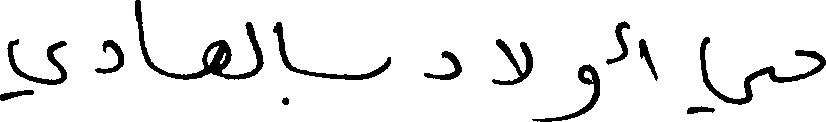X: (702, 32, 772, 117), (0, 34, 65, 105), (610, 16, 655, 84), (552, 59, 599, 121), (494, 34, 522, 89), (425, 46, 460, 84), (204, 35, 229, 84), (797, 45, 825, 85), (96, 35, 120, 78), (136, 0, 150, 72), (279, 17, 289, 109), (247, 17, 259, 82), (524, 37, 530, 83), (384, 52, 389, 75)
